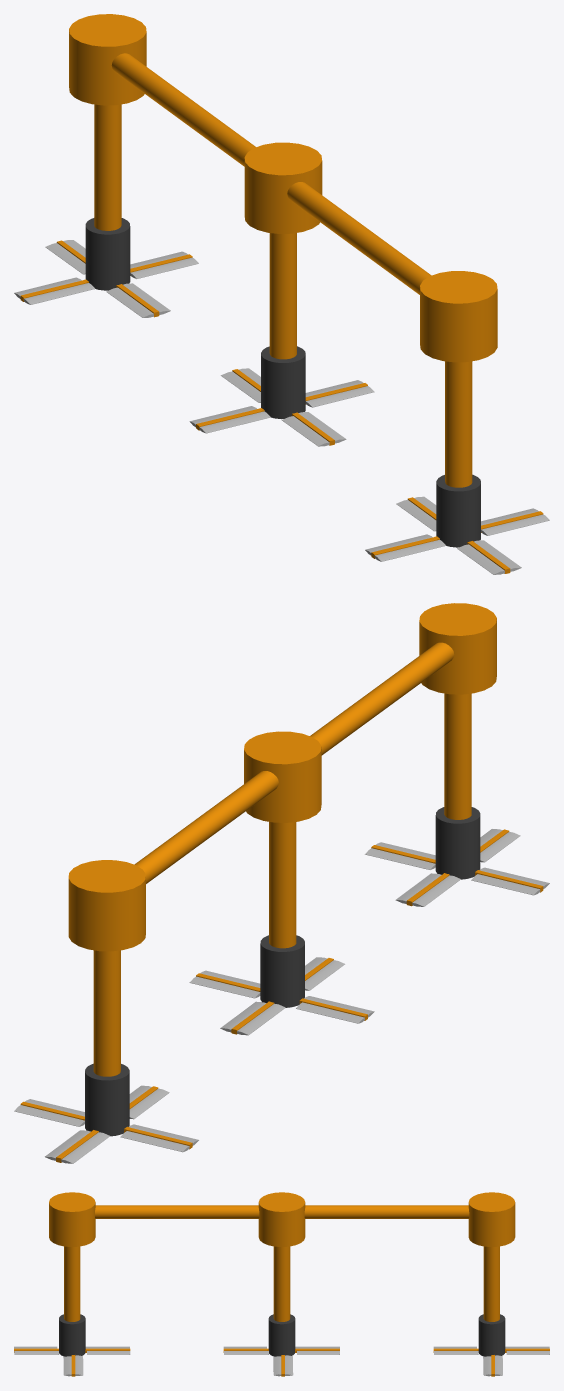
3 views of the same model, one above another, from view 1: azimuth 30°, elevation 25°; view 2: azimuth 150°, elevation 25°; view 3: azimuth 270°, elevation 25° (orthographic). The views are drawn at different scales.
Parts seen in each view (by area): view 1: pCylinder42, pCylinder47, pCylinder49, polySurface88, pCylinder48, pCylinder46, pCylinder43; view 2: pCylinder49, pCylinder47, pCylinder42, polySurface88, pCylinder43, pCylinder48, pCylinder46; view 3: polySurface88, pCylinder47, pCylinder49, pCylinder42, pCylinder48, pCylinder46, pCylinder43.
Boxes of the visible parts, x1,y1,x2,y2 form: pCylinder42: (420, 271, 497, 487); pCylinder47: (244, 142, 322, 359); pCylinder49: (69, 14, 146, 230); polySurface88: (111, 53, 431, 294); pCylinder48: (14, 218, 198, 317); pCylinder46: (189, 346, 374, 446); pCylinder43: (365, 474, 549, 574); pCylinder49: (68, 860, 145, 1076); pCylinder47: (244, 731, 321, 948); pCylinder42: (419, 603, 496, 819); polySurface88: (134, 642, 454, 883); pCylinder43: (365, 807, 549, 906); pCylinder48: (14, 1063, 198, 1163); pCylinder46: (189, 935, 374, 1035); polySurface88: (95, 1205, 469, 1218); pCylinder47: (258, 1192, 305, 1321); pCylinder49: (468, 1192, 515, 1321); pCylinder42: (49, 1192, 95, 1321); pCylinder48: (433, 1314, 549, 1376); pCylinder46: (223, 1314, 339, 1376); pCylinder43: (14, 1314, 130, 1376).
Bounding box in the file's own units: 3.91 × 5.53 × 17.93.
